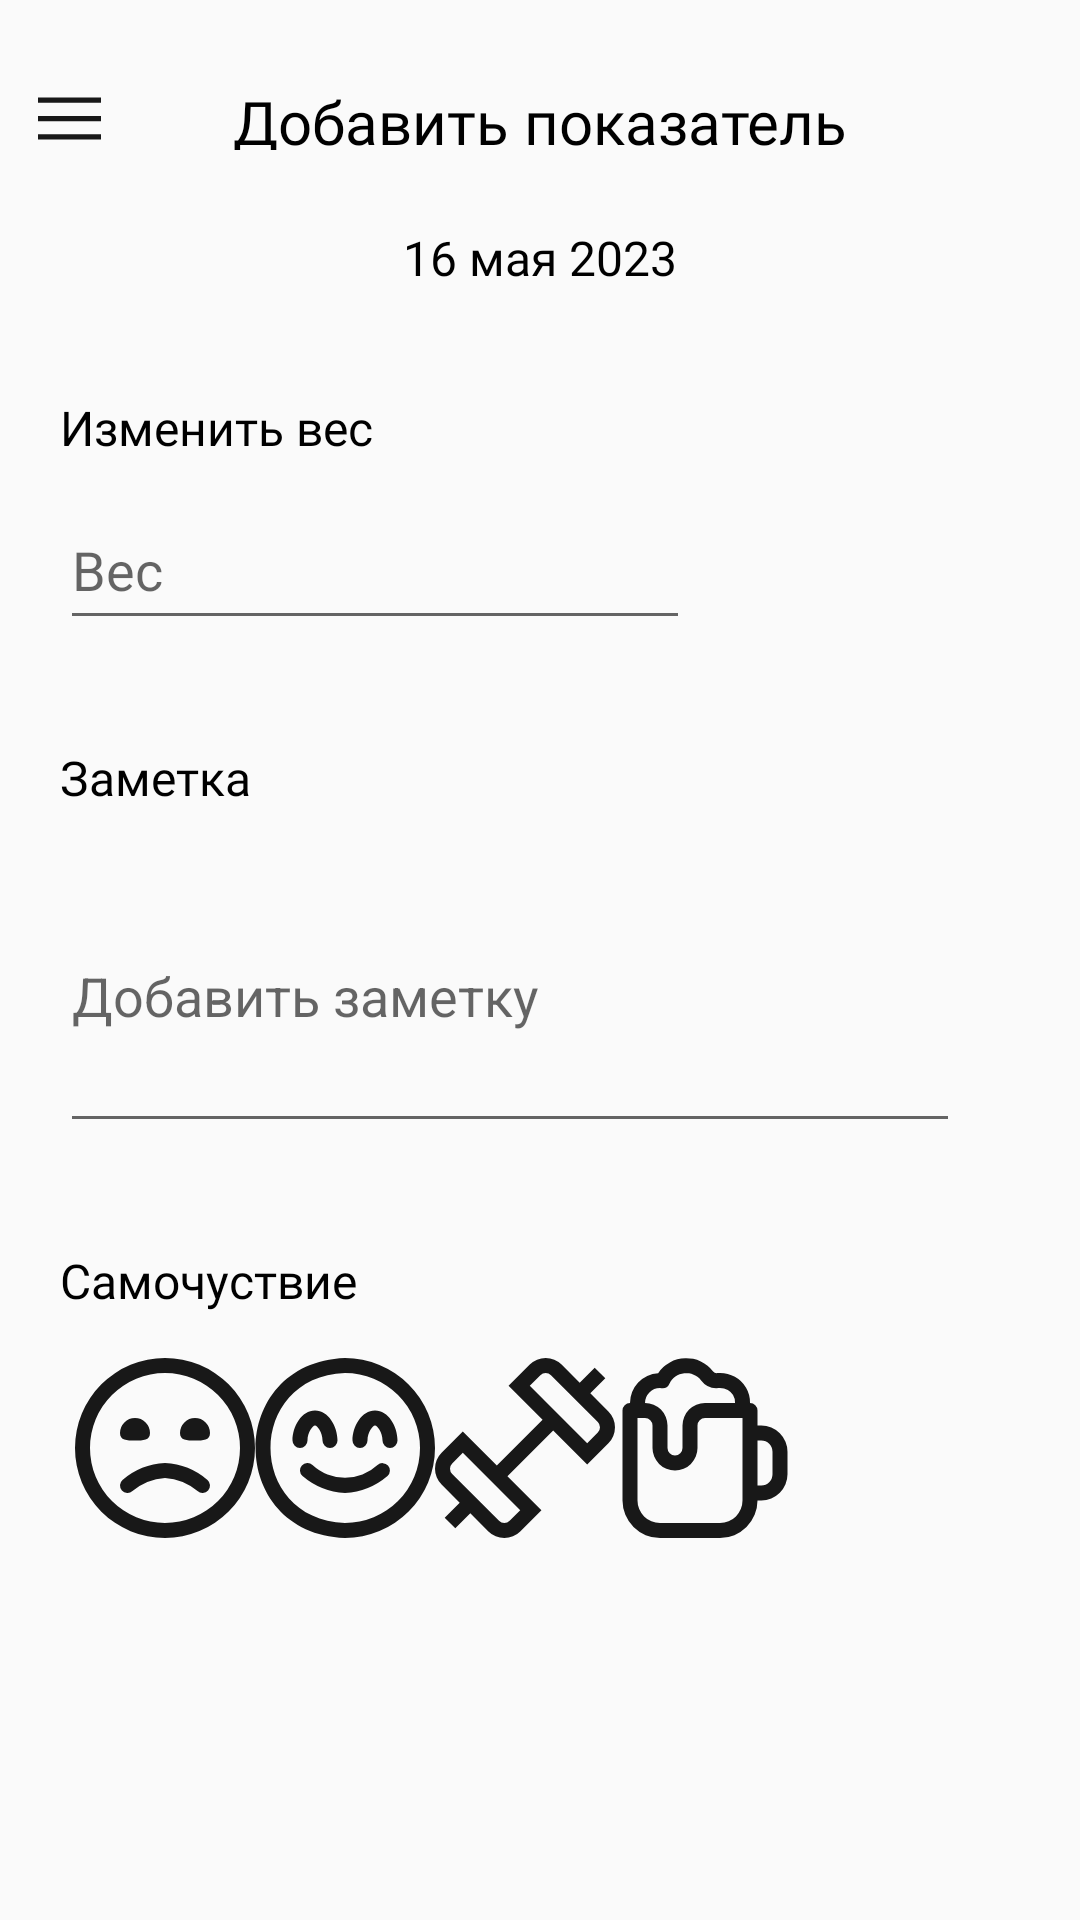

Point at icon controls on the screen. Image size 1080px×1920px, points as (x=x, y=y).
beer: (x=705, y=1448)
burger menu: (x=69, y=118)
gym: (x=525, y=1448)
sad: (x=165, y=1448)
smile: (x=345, y=1448)
